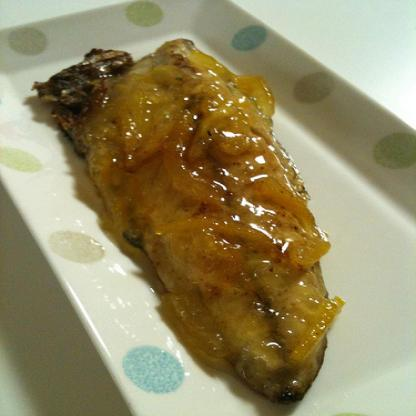Peixe: (30, 31, 349, 412)
